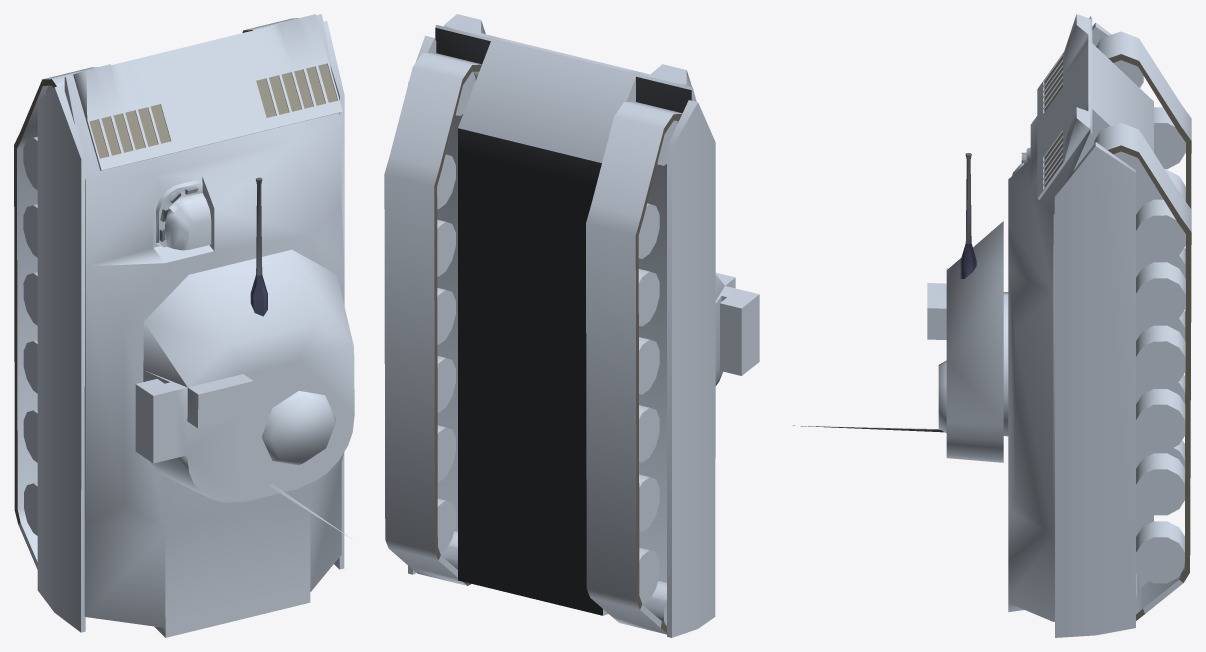
The picture shows the model from 3 angles, left to right: view 1: azimuth 30°, elevation 25°; view 2: azimuth 150°, elevation 25°; view 3: azimuth 270°, elevation 25°; orthographic projection. The views are drawn at different scales.
Parts seen in each view (by area): view 1: db_bradley_p13665_Geometry_0.001, db_bradley_d2_turtop_p13731_Geometry_0.001, db_bradley_tackg_track_p14670_Geometry_0.001, db_bradley_p13951_Geometry_0.001, db_bradley_d2_thatch_p13722_Geometry_0.001, db_bradley_d2_obvs_p13763_Geometry_0.001, db_bradley_wheelg_wheels_p14182_Geometry_0.001, db_bradley_d2_tow_p13771_Geometry_0.001, db_bradley_tackg_track_p14646_Geometry_0.001, db_bradley_wheelg_o2579_p14983_Geometry_0.001, db_bradley_wheelg_o2580_p15399_Geometry_0.001, db_bradley_d2_d3_boot_p13779_Geometry_0.001 (+2 smaller); view 2: db_bradley_p13655_Geometry_0.001, db_bradley_tackg_track_p14670_Geometry_0.001, db_bradley_p13665_Geometry_0.001, db_bradley_wheelg_wheels_p14182_Geometry_0.001, db_bradley_wheelg_o2580_p15399_Geometry_0.001, db_bradley_tackg_track_p14646_Geometry_0.001, db_bradley_wheelg_o2579_p14983_Geometry_0.001, db_bradley_d2_tow_p13771_Geometry_0.001, db_bradley_tackg_track_p14654_Geometry_0.001, db_bradley_d2_turtop_p13731_Geometry_0.001; view 3: db_bradley_p13665_Geometry_0.001, db_bradley_wheelg_wheels_p14182_Geometry_0.001, db_bradley_d2_turtop_p13731_Geometry_0.001, db_bradley_wheelg_o2580_p15399_Geometry_0.001, db_bradley_wheelg_o2579_p14983_Geometry_0.001, db_bradley_tackg_track_p14670_Geometry_0.001, db_bradley_tackg_track_p14646_Geometry_0.001, db_bradley_d2_rot_p13805_Geometry_0.001, db_bradley_p13951_Geometry_0.001, db_bradley_d2_obvs_p13763_Geometry_0.001, db_bradley_tackg_track_p14654_Geometry_0.001, db_bradley_d2_thatch_p13722_Geometry_0.001.
Boxes of the visible parts, left/top/right/bottom form: db_bradley_p13665_Geometry_0.001: left=37, top=14, right=344, bottom=637; db_bradley_d2_turtop_p13731_Geometry_0.001: left=143, top=249, right=354, bottom=502; db_bradley_tackg_track_p14670_Geometry_0.001: left=17, top=18, right=298, bottom=522; db_bradley_p13951_Geometry_0.001: left=89, top=63, right=337, bottom=158; db_bradley_d2_thatch_p13722_Geometry_0.001: left=261, top=391, right=335, bottom=465; db_bradley_d2_obvs_p13763_Geometry_0.001: left=165, top=381, right=351, bottom=538; db_bradley_wheelg_wheels_p14182_Geometry_0.001: left=23, top=86, right=52, bottom=535; db_bradley_d2_tow_p13771_Geometry_0.001: left=135, top=379, right=175, bottom=463; db_bradley_tackg_track_p14646_Geometry_0.001: left=14, top=30, right=252, bottom=524; db_bradley_wheelg_o2579_p14983_Geometry_0.001: left=23, top=85, right=52, bottom=535; db_bradley_wheelg_o2580_p15399_Geometry_0.001: left=23, top=87, right=52, bottom=534; db_bradley_d2_d3_boot_p13779_Geometry_0.001: left=250, top=274, right=267, bottom=316; db_bradley_p13655_Geometry_0.001: left=435, top=28, right=691, bottom=615; db_bradley_tackg_track_p14670_Geometry_0.001: left=384, top=52, right=682, bottom=634; db_bradley_p13665_Geometry_0.001: left=408, top=14, right=715, bottom=637; db_bradley_wheelg_wheels_p14182_Geometry_0.001: left=437, top=72, right=677, bottom=613; db_bradley_wheelg_o2580_p15399_Geometry_0.001: left=437, top=72, right=677, bottom=625; db_bradley_tackg_track_p14646_Geometry_0.001: left=434, top=64, right=681, bottom=632; db_bradley_wheelg_o2579_p14983_Geometry_0.001: left=437, top=71, right=675, bottom=625; db_bradley_d2_tow_p13771_Geometry_0.001: left=720, top=289, right=759, bottom=375; db_bradley_tackg_track_p14654_Geometry_0.001: left=389, top=548, right=661, bottom=627; db_bradley_d2_turtop_p13731_Geometry_0.001: left=715, top=274, right=724, bottom=385; db_bradley_p13665_Geometry_0.001: left=1008, top=14, right=1153, bottom=637; db_bradley_wheelg_wheels_p14182_Geometry_0.001: left=1113, top=60, right=1185, bottom=605; db_bradley_d2_turtop_p13731_Geometry_0.001: left=946, top=221, right=1003, bottom=462; db_bradley_wheelg_o2580_p15399_Geometry_0.001: left=1117, top=62, right=1185, bottom=583; db_bradley_wheelg_o2579_p14983_Geometry_0.001: left=1114, top=60, right=1185, bottom=613; db_bradley_tackg_track_p14670_Geometry_0.001: left=1094, top=31, right=1191, bottom=614; db_bradley_tackg_track_p14646_Geometry_0.001: left=1107, top=54, right=1191, bottom=620; db_bradley_d2_rot_p13805_Geometry_0.001: left=1003, top=292, right=1008, bottom=436; db_bradley_p13951_Geometry_0.001: left=1044, top=56, right=1062, bottom=187; db_bradley_d2_obvs_p13763_Geometry_0.001: left=795, top=308, right=946, bottom=429; db_bradley_tackg_track_p14654_Geometry_0.001: left=1143, top=577, right=1183, bottom=613; db_bradley_d2_thatch_p13722_Geometry_0.001: left=938, top=360, right=946, bottom=432.
Size of the model in its own units: 3.39 by 6.55 by 4.66.
